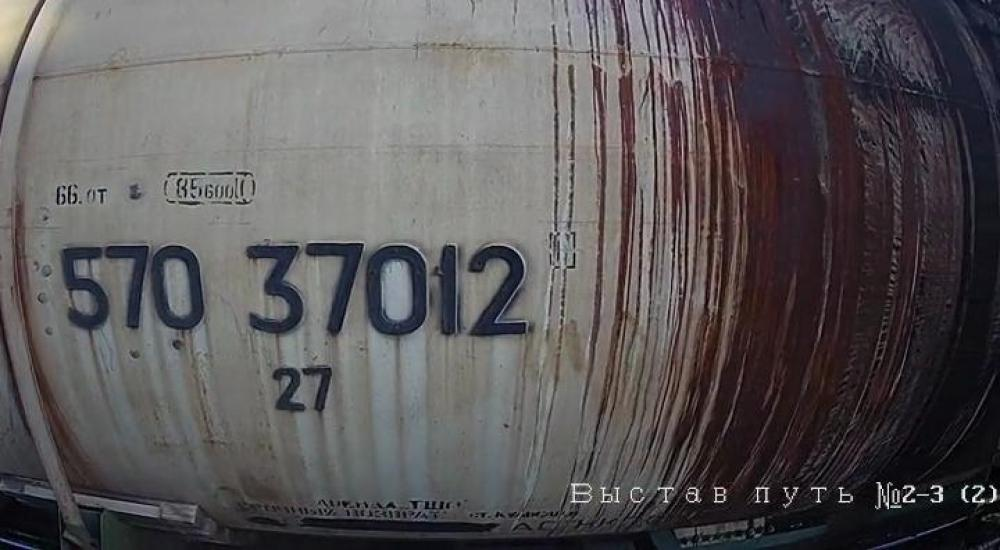Wagon-number: (60, 240, 536, 342)
